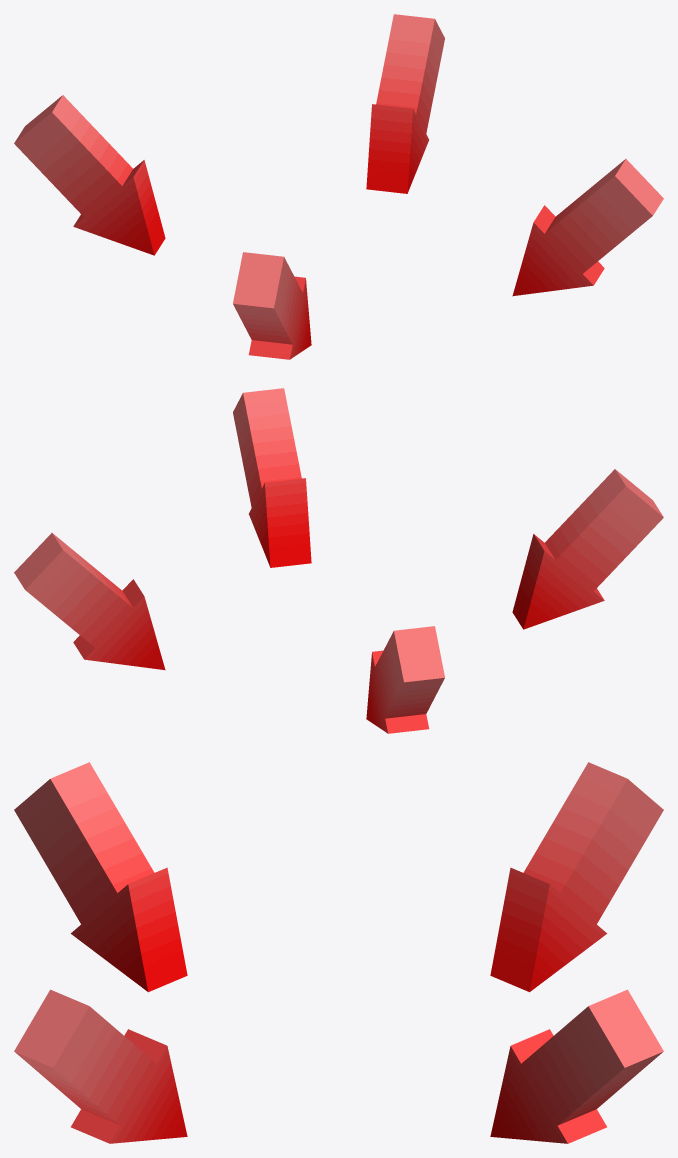
File: sfx_taget_tagger1.glb
3 views of the same model, one above another, from view 1: azimuth 30°, elevation 25°; view 2: azimuth 150°, elevation 25°; view 3: azimuth 270°, elevation 25° (orthographic). The views are drawn at different scales.
Parts seen in each view (by area): view 1: sfx_taget_tagger1_obj1, sfx_taget_tagger1_obj2, sfx_taget_tagger1_obj4, sfx_taget_tagger1_obj3; view 2: sfx_taget_tagger1_obj3, sfx_taget_tagger1_obj4, sfx_taget_tagger1_obj2, sfx_taget_tagger1_obj1; view 3: sfx_taget_tagger1_obj1, sfx_taget_tagger1_obj3, sfx_taget_tagger1_obj2, sfx_taget_tagger1_obj4.
Part boxes in pixels (x1=…): sfx_taget_tagger1_obj1: x1=14, y1=95, x2=165, y2=255; sfx_taget_tagger1_obj2: x1=512, y1=159, x2=663, y2=296; sfx_taget_tagger1_obj4: x1=366, y1=14, x2=444, y2=193; sfx_taget_tagger1_obj3: x1=233, y1=252, x2=311, y2=359; sfx_taget_tagger1_obj3: x1=512, y1=469, x2=663, y2=629; sfx_taget_tagger1_obj4: x1=14, y1=533, x2=165, y2=670; sfx_taget_tagger1_obj2: x1=233, y1=388, x2=311, y2=567; sfx_taget_tagger1_obj1: x1=366, y1=626, x2=444, y2=733; sfx_taget_tagger1_obj1: x1=490, y1=762, x2=663, y2=992; sfx_taget_tagger1_obj3: x1=14, y1=762, x2=187, y2=992; sfx_taget_tagger1_obj2: x1=14, y1=989, x2=187, y2=1143; sfx_taget_tagger1_obj4: x1=490, y1=989, x2=663, y2=1143.
Size of the model in its own units: 1.05 by 0.3068 by 1.05.
1 material, 1 textured.
